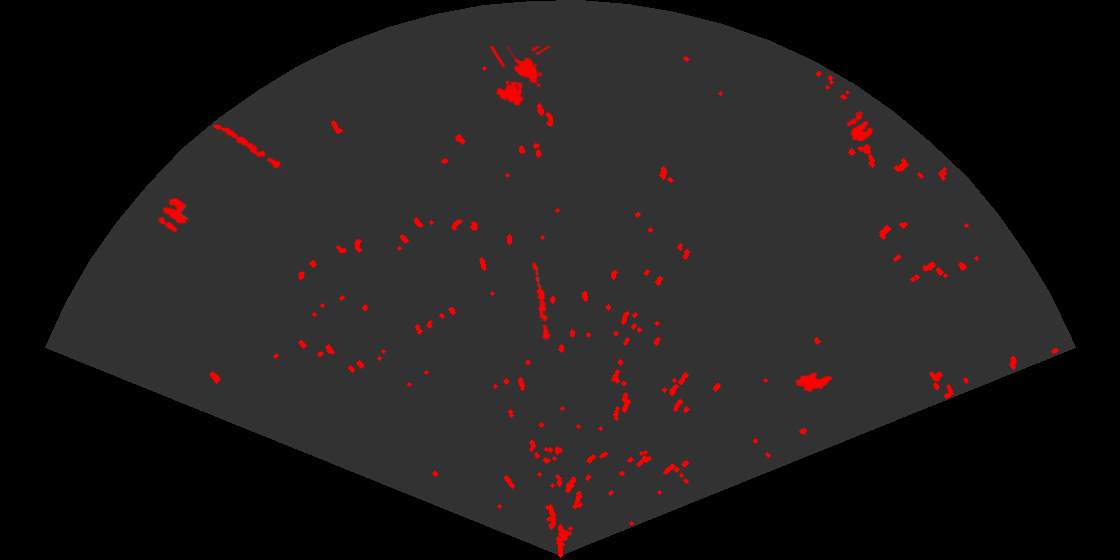AUV: (793, 371, 834, 394)
ball: (156, 196, 190, 234), (845, 113, 875, 143)
cage: (488, 46, 553, 107)
chain: (211, 123, 290, 175), (531, 260, 552, 340)
